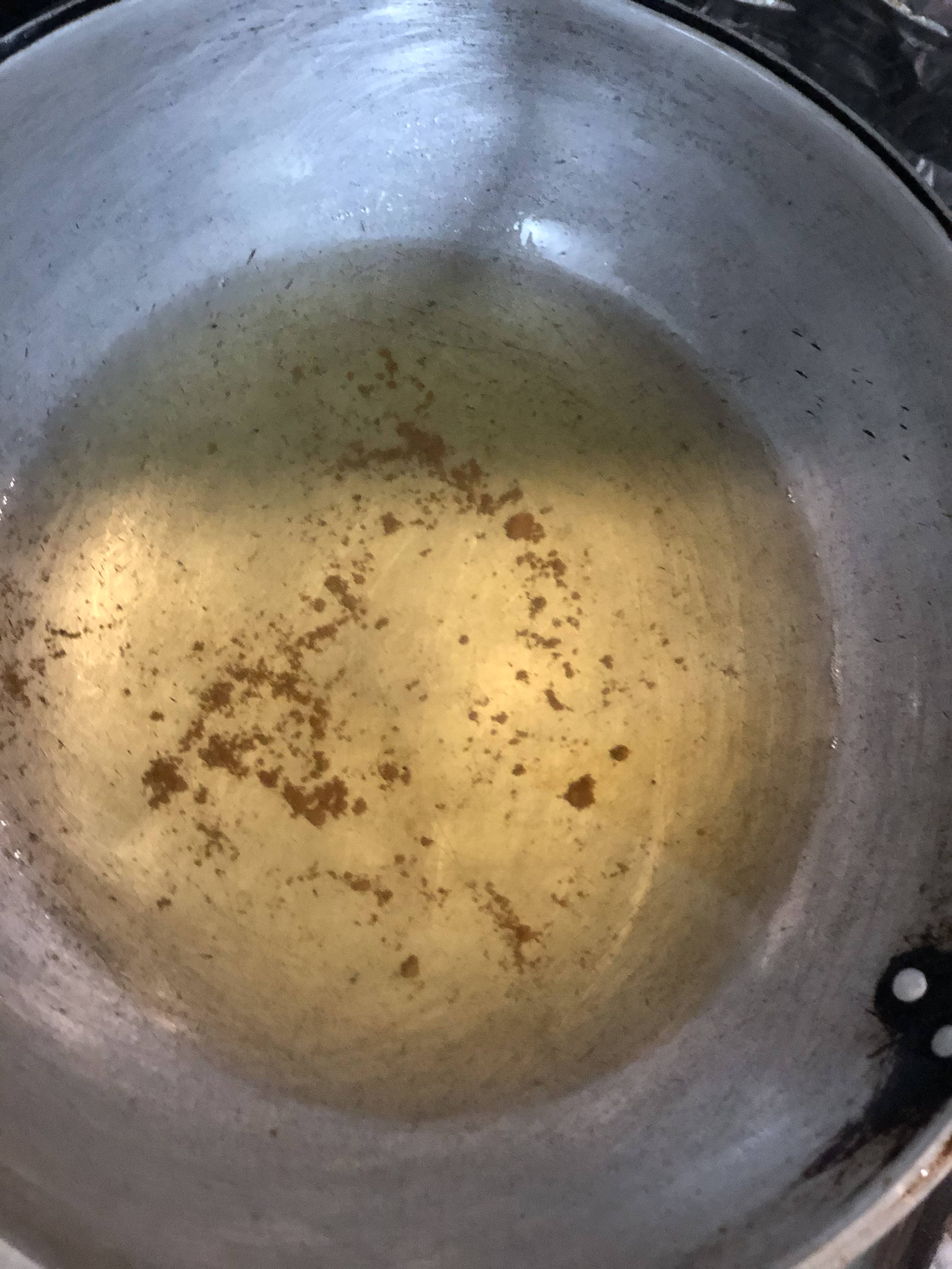reusable: (0, 242, 828, 1117)
